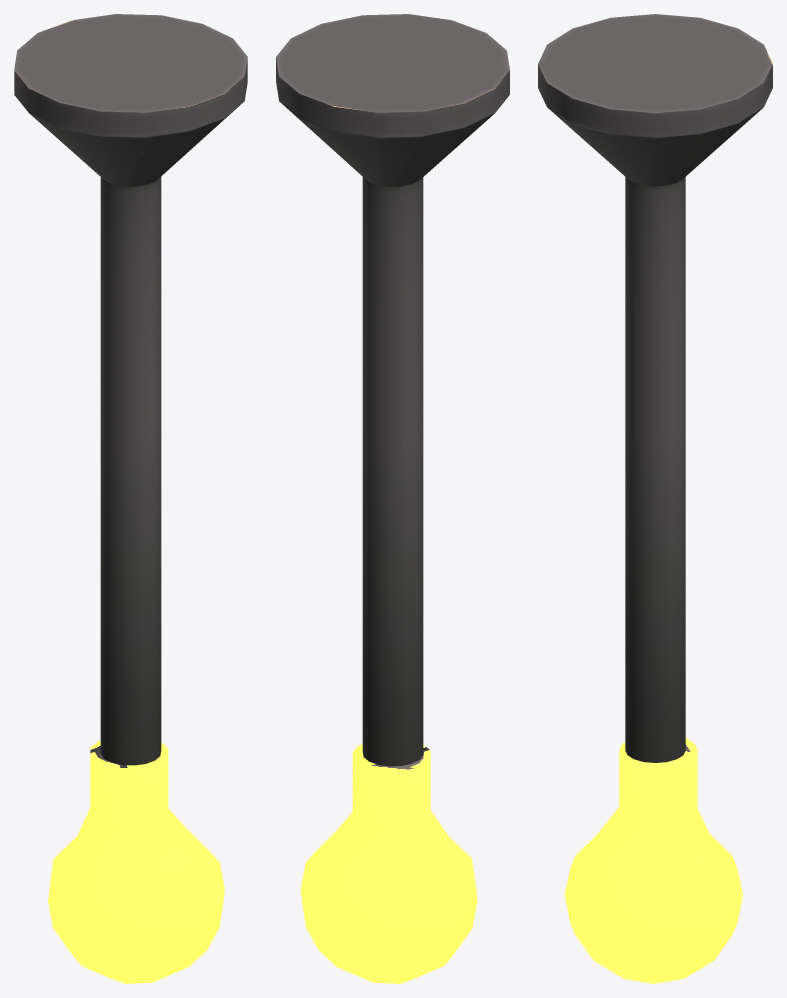
Rendered from Bathroom_lamp.fbx.
The picture shows the model from 3 angles, left to right: view 1: azimuth 30°, elevation 25°; view 2: azimuth 150°, elevation 25°; view 3: azimuth 270°, elevation 25°; orthographic projection.
Visible parts, largest first — view 1: CeilingLamp.002; view 2: CeilingLamp.002; view 3: CeilingLamp.002.
Boxes of the visible parts, bbox=[...] form: CeilingLamp.002: bbox=[14, 14, 247, 983]; CeilingLamp.002: bbox=[276, 14, 509, 983]; CeilingLamp.002: bbox=[538, 14, 772, 983].
Size of the model in its own units: 19.66 by 84.11 by 19.66.
Materials: 1 (1 with a texture image).
